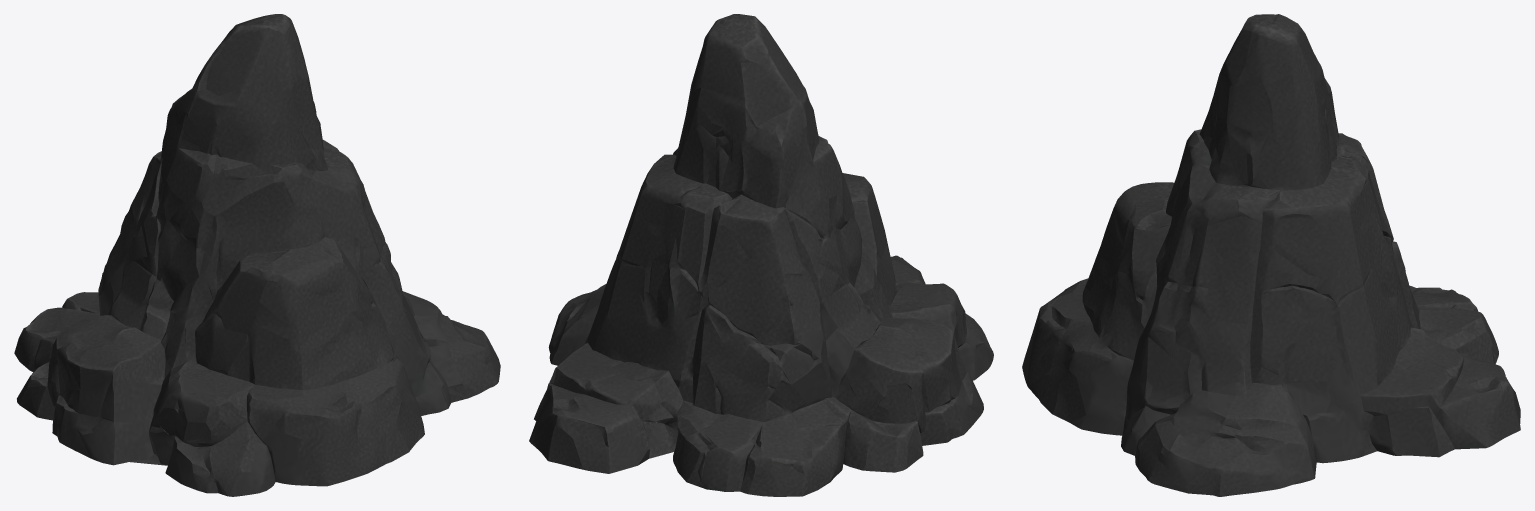
The model's file is sea-stack-tall.glb.
3 renders of one model, left to right at view 1: azimuth 30°, elevation 25°; view 2: azimuth 150°, elevation 25°; view 3: azimuth 270°, elevation 25°, orthographic. The views are drawn at different scales.
Size of the model in its own units: 1.89 by 1.59 by 1.9.
1 material, 1 textured.
